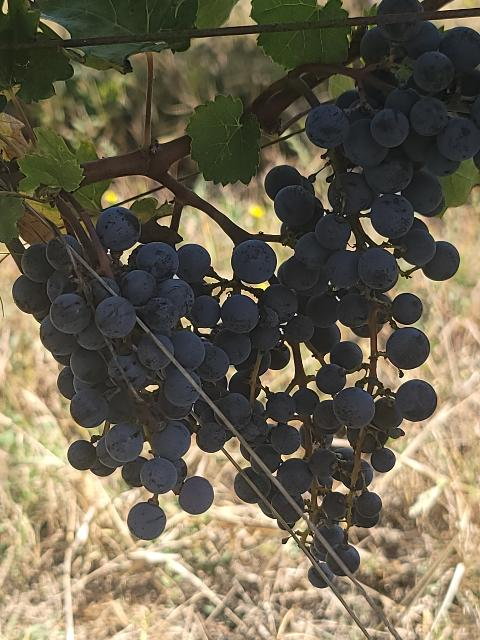grapes: (280, 20, 480, 571), (144, 232, 394, 580), (12, 206, 216, 540)
